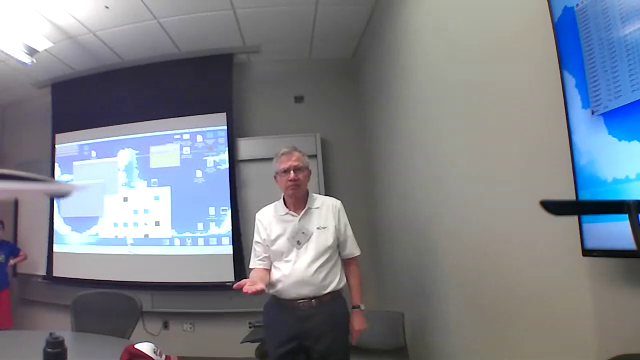land: (226, 270, 272, 298)
